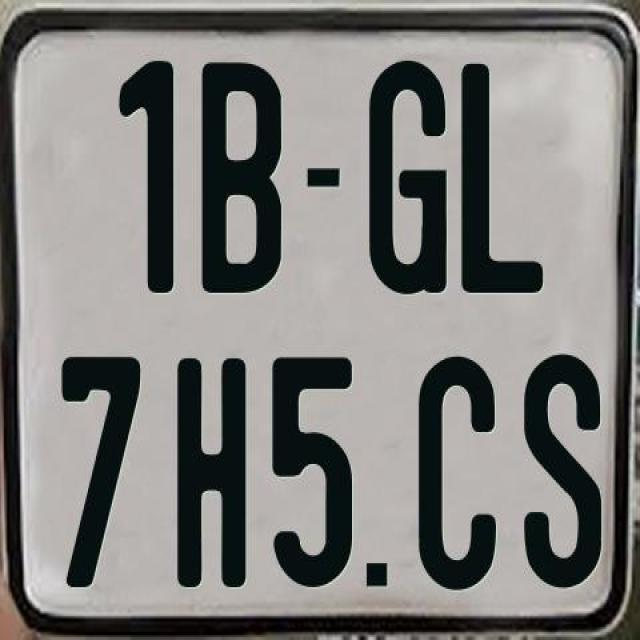1: (119, 58, 174, 292)
5: (272, 354, 356, 588)
7: (62, 353, 142, 592)
B: (201, 63, 288, 294)
C: (414, 355, 494, 595)
G: (368, 60, 452, 298)
H: (175, 358, 242, 594)
L: (458, 61, 540, 300)
S: (520, 350, 600, 588)
